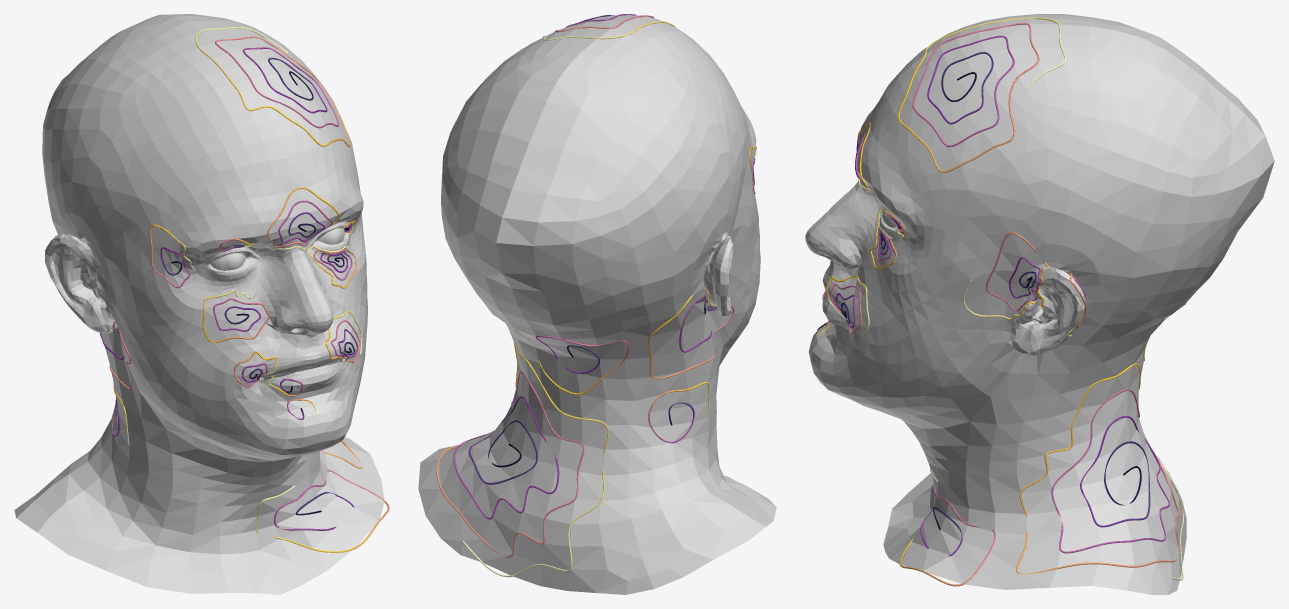
File: head_ours_all_repositioned.glb
3 views of the same model, side by side, from view 1: azimuth 30°, elevation 25°; view 2: azimuth 150°, elevation 25°; view 3: azimuth 270°, elevation 25° (orthographic). The views are drawn at different scales.
Parts seen in each view (by area): view 1: imagetostl_mesh0.001; view 2: imagetostl_mesh0.001; view 3: imagetostl_mesh0.001.
Boxes of the visible parts, x1,y1,x2,y2 form: imagetostl_mesh0.001: (14, 14, 389, 594); imagetostl_mesh0.001: (418, 14, 776, 594); imagetostl_mesh0.001: (805, 14, 1274, 594).
Size of the model in its own units: 220 by 323 by 257.
